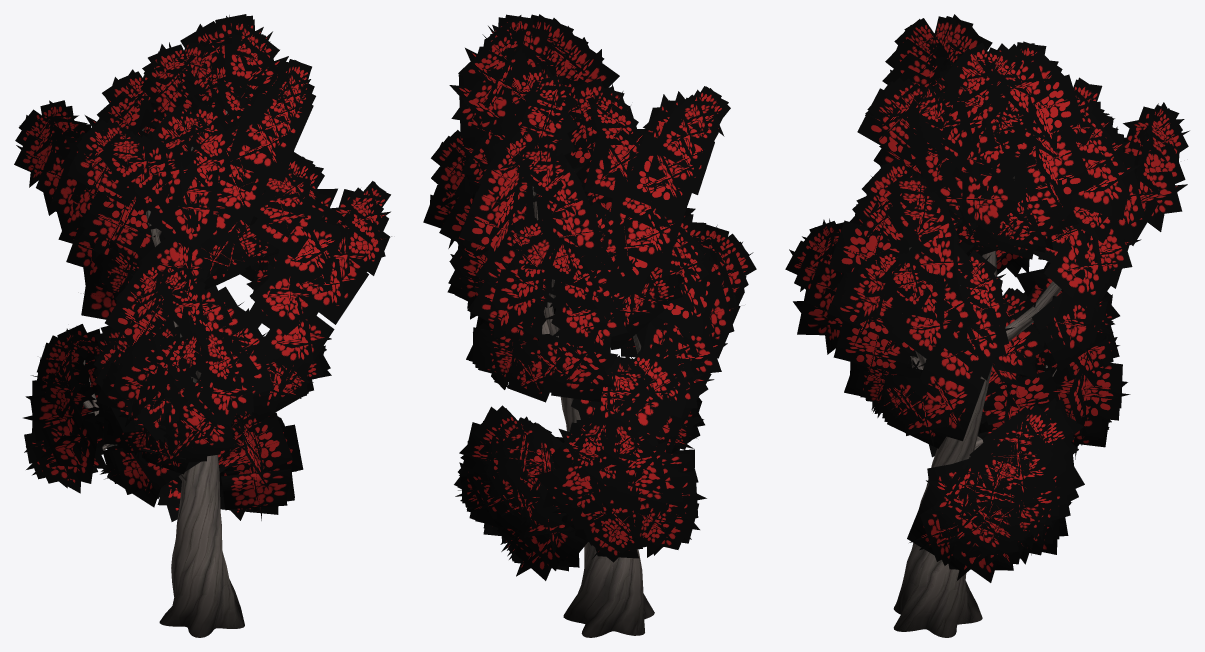
Rendered from twistedtree_4.gltf.
3 views of the same model, side by side, from view 1: azimuth 30°, elevation 25°; view 2: azimuth 150°, elevation 25°; view 3: azimuth 270°, elevation 25° (orthographic). The views are drawn at different scales.
Visible parts, largest first — view 1: TwistedTree_4; view 2: TwistedTree_4; view 3: TwistedTree_4.
Boxes of the visible parts, <box> form: TwistedTree_4: <box>14,14,391,637</box>; TwistedTree_4: <box>423,14,756,637</box>; TwistedTree_4: <box>785,14,1189,637</box>.
Bounding box in the file's own units: 10.38 × 18.74 × 11.29.
Materials: 2 (2 with a texture image).
